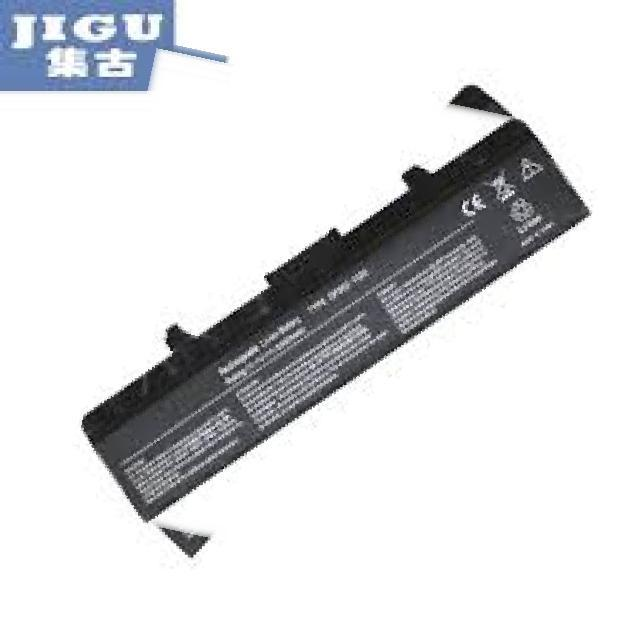Battery: (21, 116, 608, 522)
